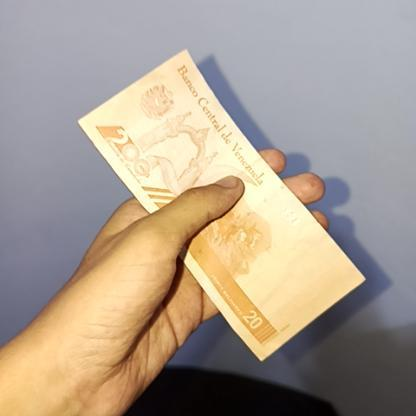vef_back: (70, 50, 371, 364)
